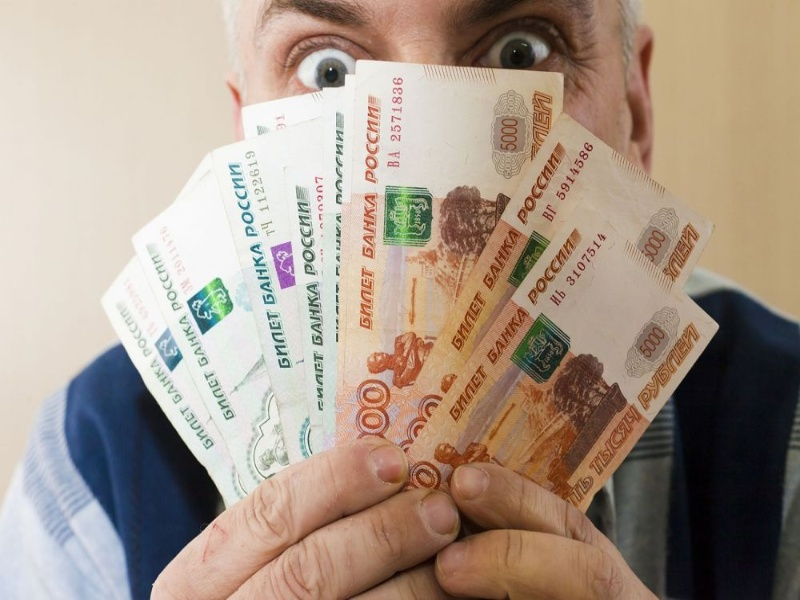cash: (100, 59, 718, 509)
